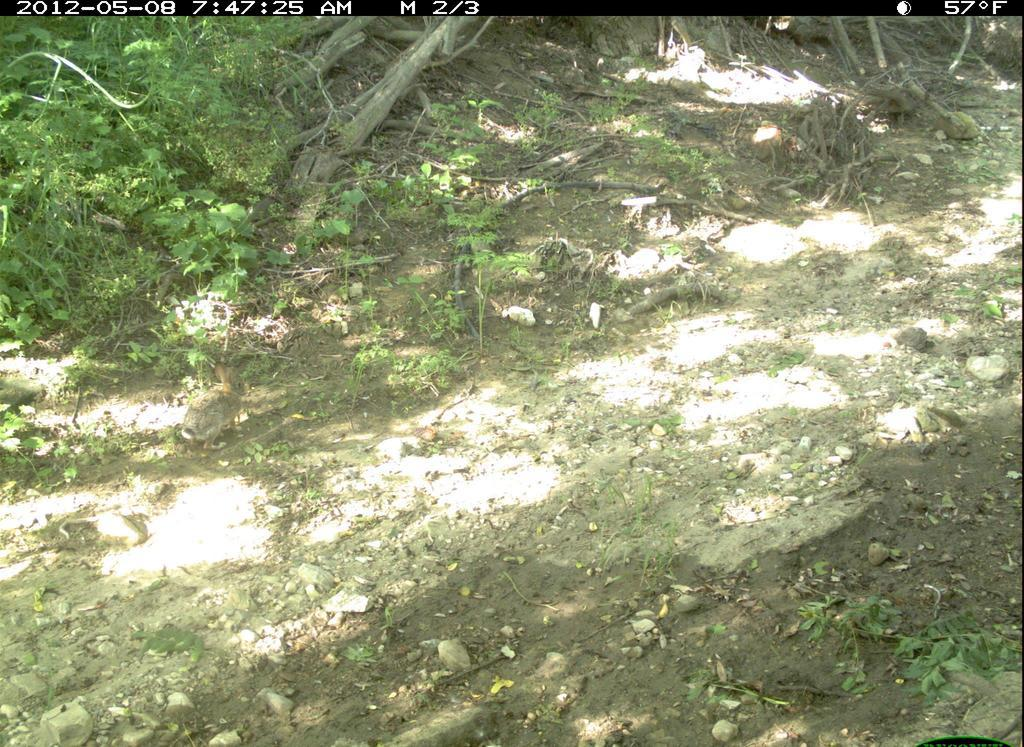rabbit: (175, 357, 256, 453)
